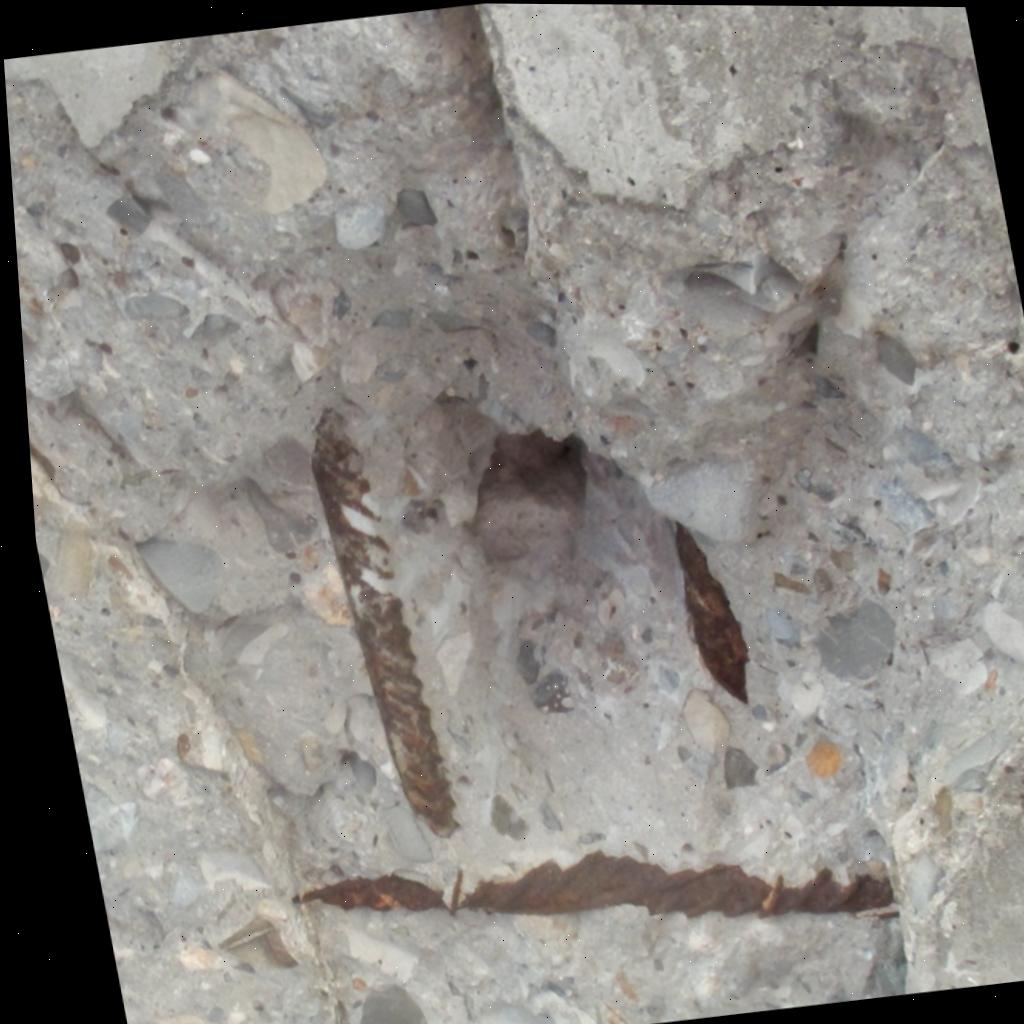exposed_rebar: (310, 409, 458, 836), (462, 851, 892, 917), (674, 523, 748, 701), (296, 874, 444, 911)
spalling: (5, 4, 1024, 1024)
